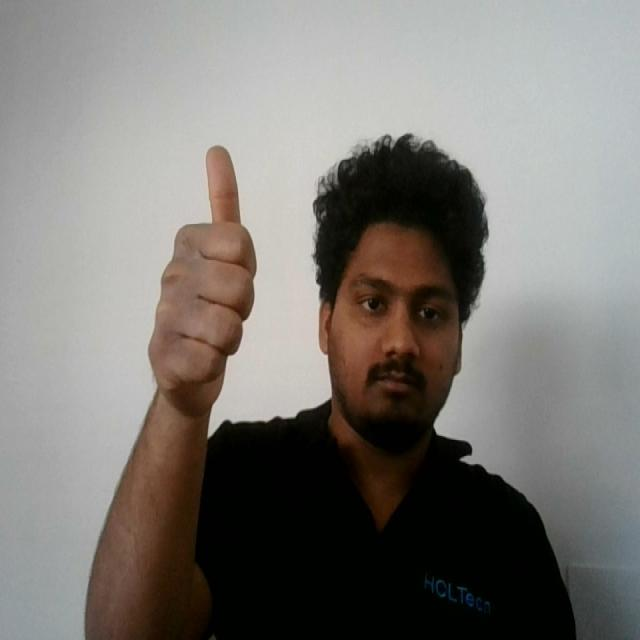Yes: (138, 134, 261, 427)
